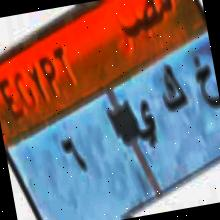6: (58, 128, 88, 182)
kaaf: (151, 54, 190, 118)
khaa: (189, 46, 220, 116)
yaa: (127, 98, 161, 154)
